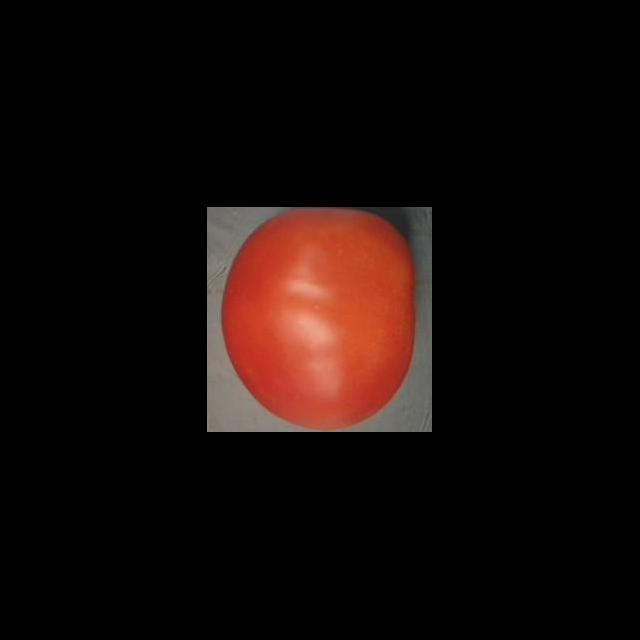tomato: (220, 208, 420, 432)
